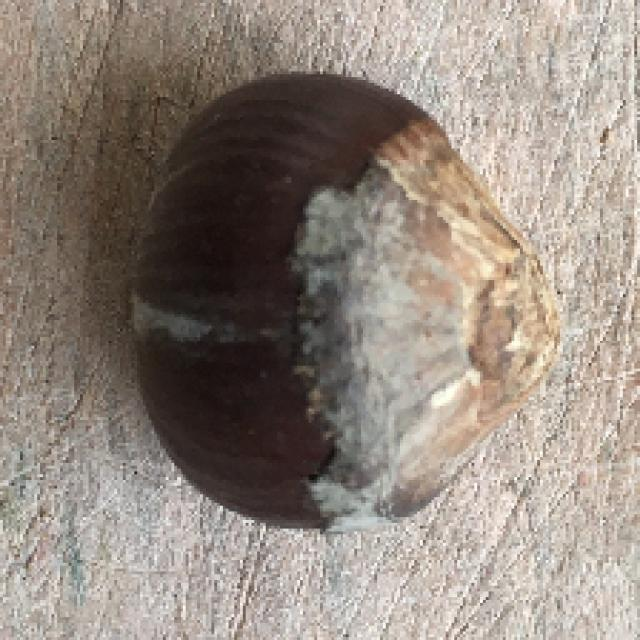damagedHazelnut: (123, 77, 554, 531)
